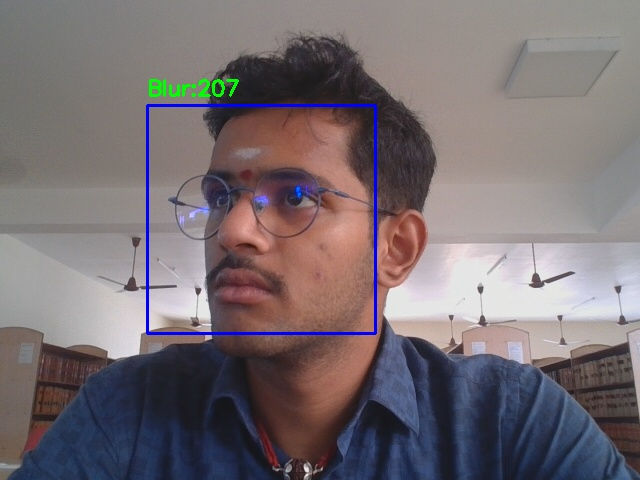real: (147, 105, 375, 333)
